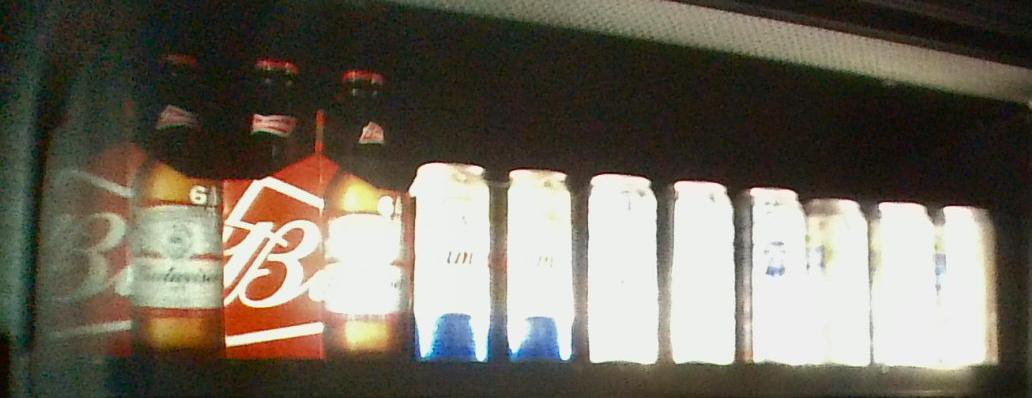bottle: (37, 22, 221, 352), (220, 45, 409, 352), (576, 166, 807, 366), (409, 154, 581, 366), (802, 188, 998, 366)
